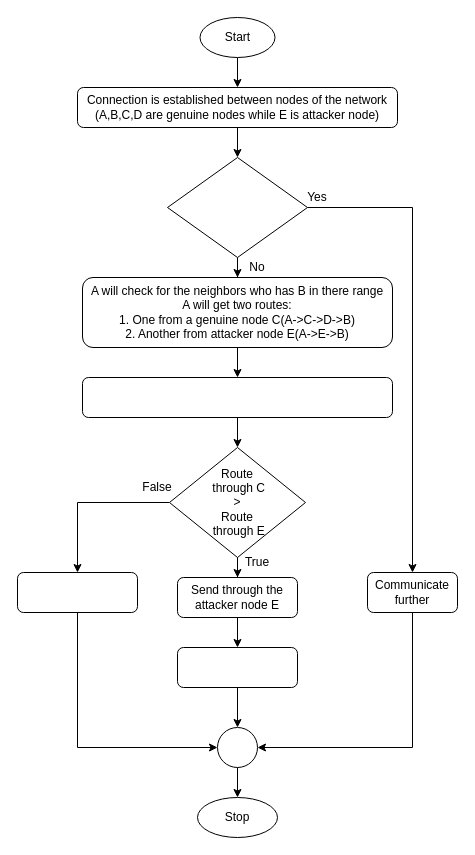
The diagram is 475 pixels wide and 855 high, and some of its shapes have lost their labels. The centre of each missing label's shape, as x and y in pixels:
"A checks whether B is in its communication range" goes at point 237,207.
"A will calculate the routes to B from the two options (C and E resp.)" goes at point 237,397.
"Neighborship attack successful" goes at point 237,667.
"Send through genuine node C" goes at point 77,592.
